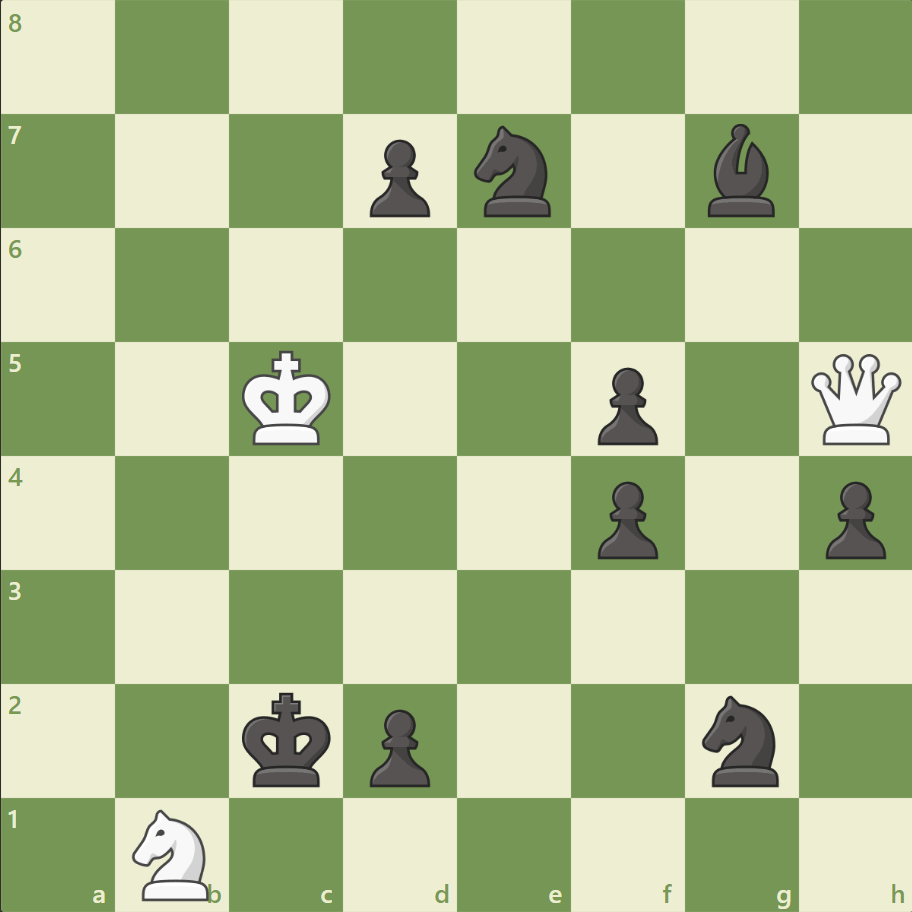K: (238, 344, 338, 452)
N: (124, 802, 222, 904)
Q: (805, 349, 904, 449)
b: (698, 120, 782, 222)
k: (238, 685, 338, 793)
n: (692, 688, 789, 791), (465, 121, 562, 223)
p: (361, 132, 435, 223), (588, 359, 662, 450), (588, 473, 662, 564), (815, 473, 889, 564), (361, 700, 435, 791)
